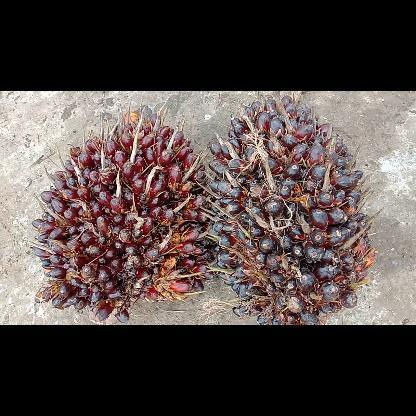Kurang masak: (210, 95, 374, 324)
TBS masak: (34, 104, 212, 324)
